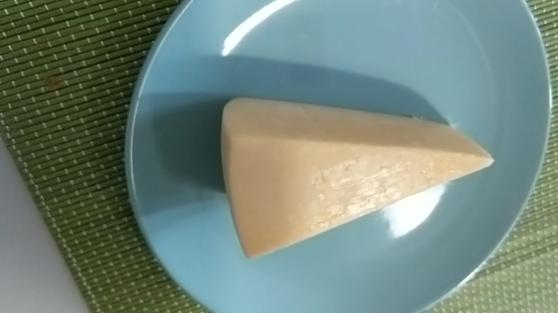cheese: (222, 95, 496, 260)
